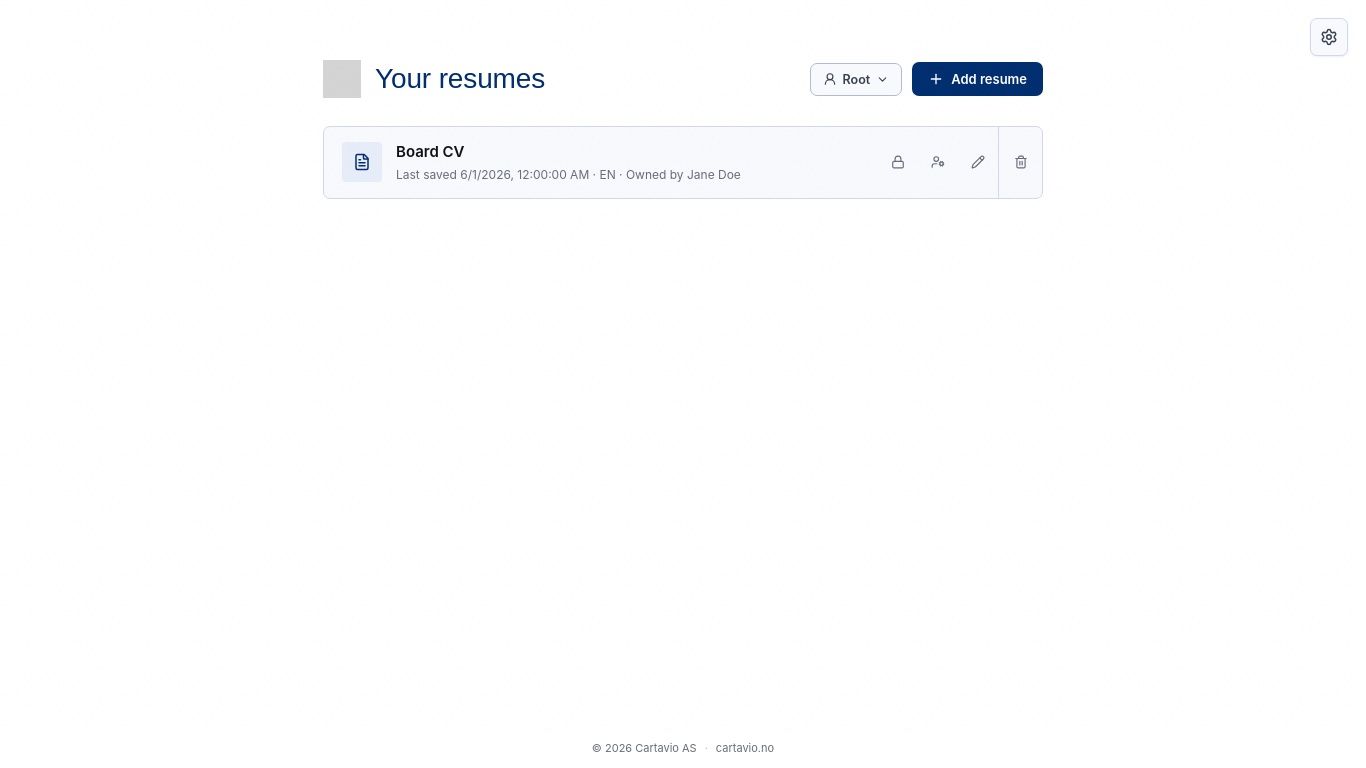
Test case: <ResumeList> › ownership › re-labels the row after a handover, without a reload
This screenshot has width=1366, height=768.
Step 1. Click the button named "change owner of board cv" → (938, 162), box [918,127,958,198]
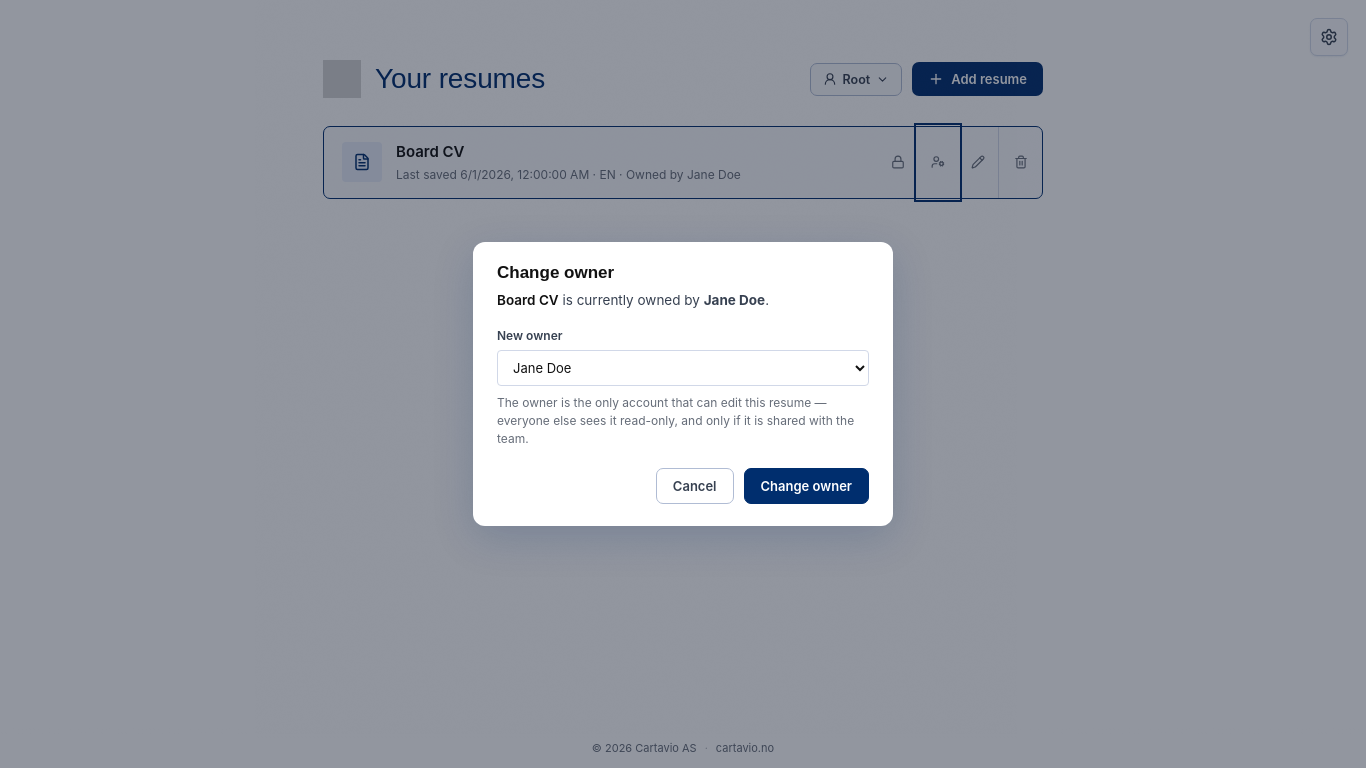
Step 2. Select "Omar Ali" in the dropdown labelled "New owner" → (683, 368), box [497,350,869,386]
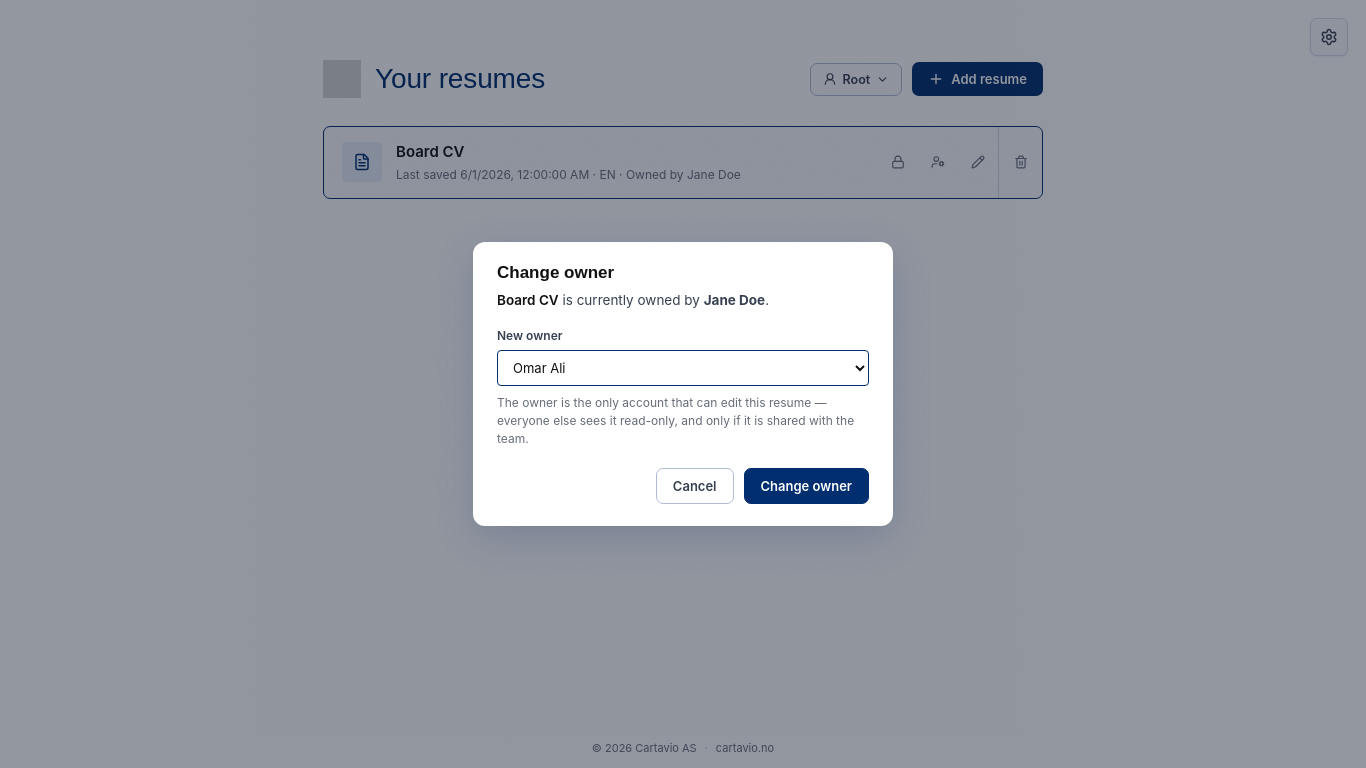
Step 3. Click the button "Change owner" → (806, 486), box [744,468,869,504]
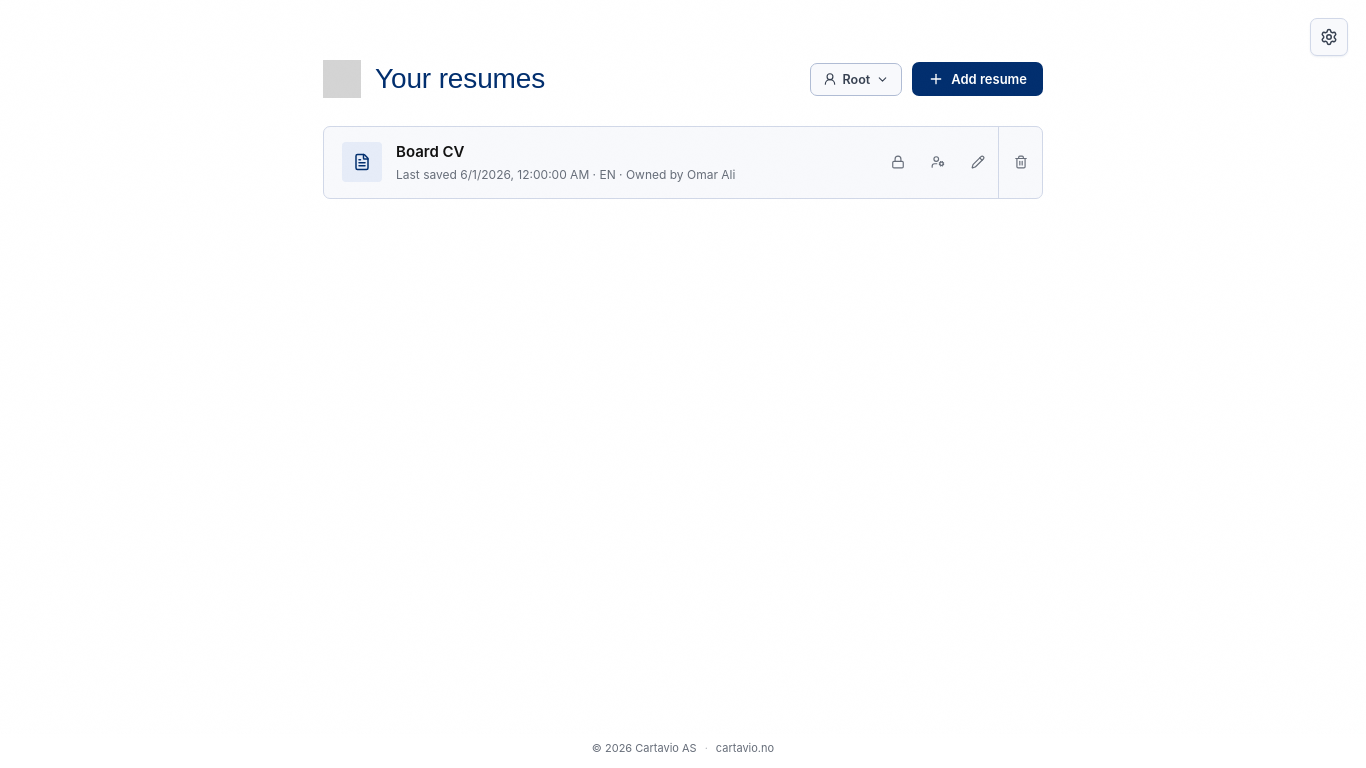
Now the text "· Owned by Omar Ali" is shown, box [616,166,735,182]
